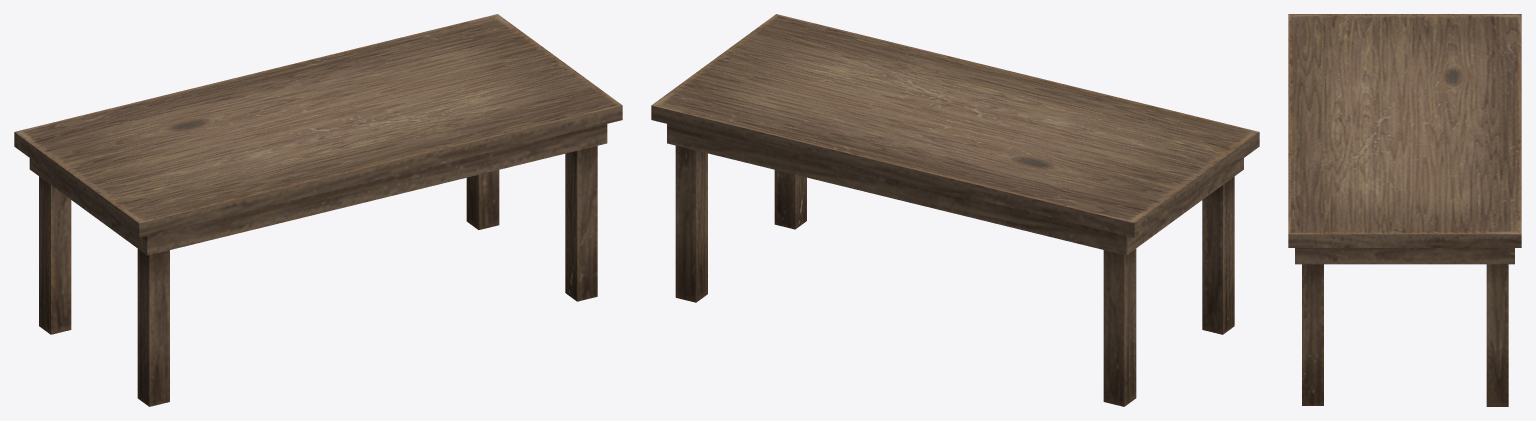
The model's file is Coffee.Table_1.fbx.
3 renders of one model, left to right at view 1: azimuth 30°, elevation 25°; view 2: azimuth 150°, elevation 25°; view 3: azimuth 270°, elevation 25°, orthographic. The views are drawn at different scales.
Visible parts, largest first — view 1: Coffee.Table_1; view 2: Coffee.Table_1; view 3: Coffee.Table_1.
Boxes of the visible parts, left/top/right/bottom form: Coffee.Table_1: left=14, top=14, right=622, bottom=406; Coffee.Table_1: left=651, top=14, right=1259, bottom=406; Coffee.Table_1: left=1288, top=14, right=1521, bottom=406.
Bounding box in the file's own units: 115 × 43.85 × 51.44.
